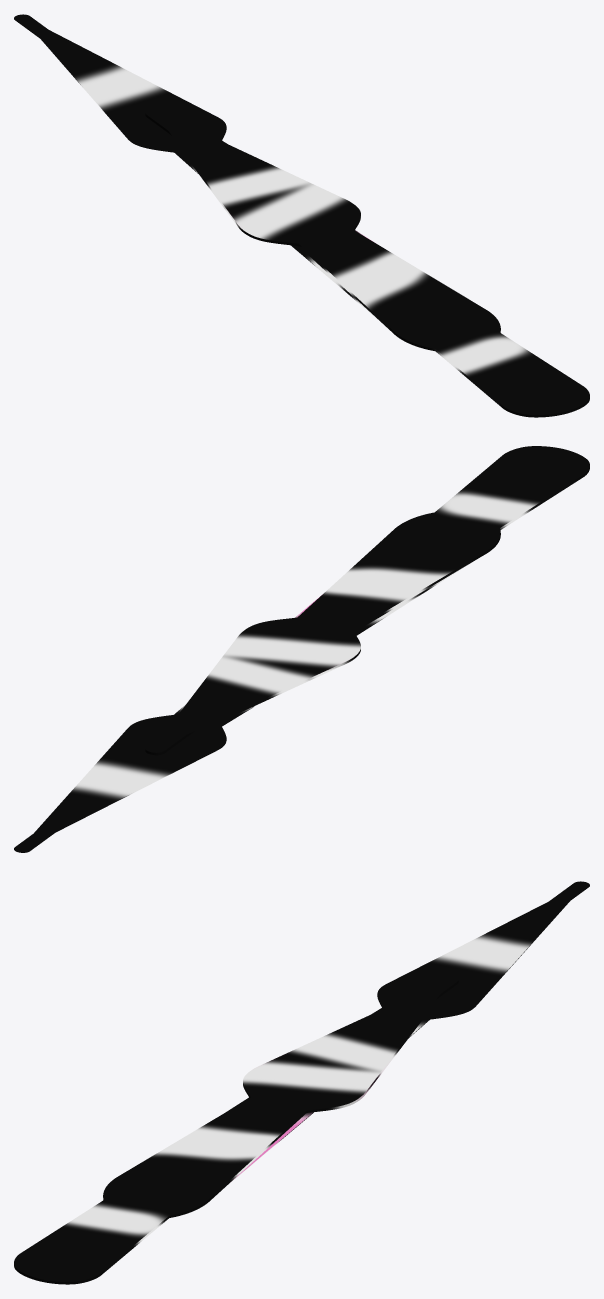
The model's file is clock2.fbx.
3 renders of one model, top to bottom at view 1: azimuth 30°, elevation 25°; view 2: azimuth 150°, elevation 25°; view 3: azimuth 330°, elevation 25°, orthographic.
Parts seen in each view (by area): view 1: hour, minutes; view 2: hour, minutes; view 3: hour, minutes.
Boxes of the visible parts, x1=… form: hour: x1=145, y1=108, x2=589, y2=417; minutes: x1=14, y1=14, x2=379, y2=320; hour: x1=145, y1=446, x2=589, y2=755; minutes: x1=14, y1=565, x2=466, y2=852; hour: x1=14, y1=975, x2=458, y2=1284; minutes: x1=223, y1=881, x2=589, y2=1188.
Size of the model in its own units: 23.79 by 0.9212 by 205.
2 materials, 2 textured.
